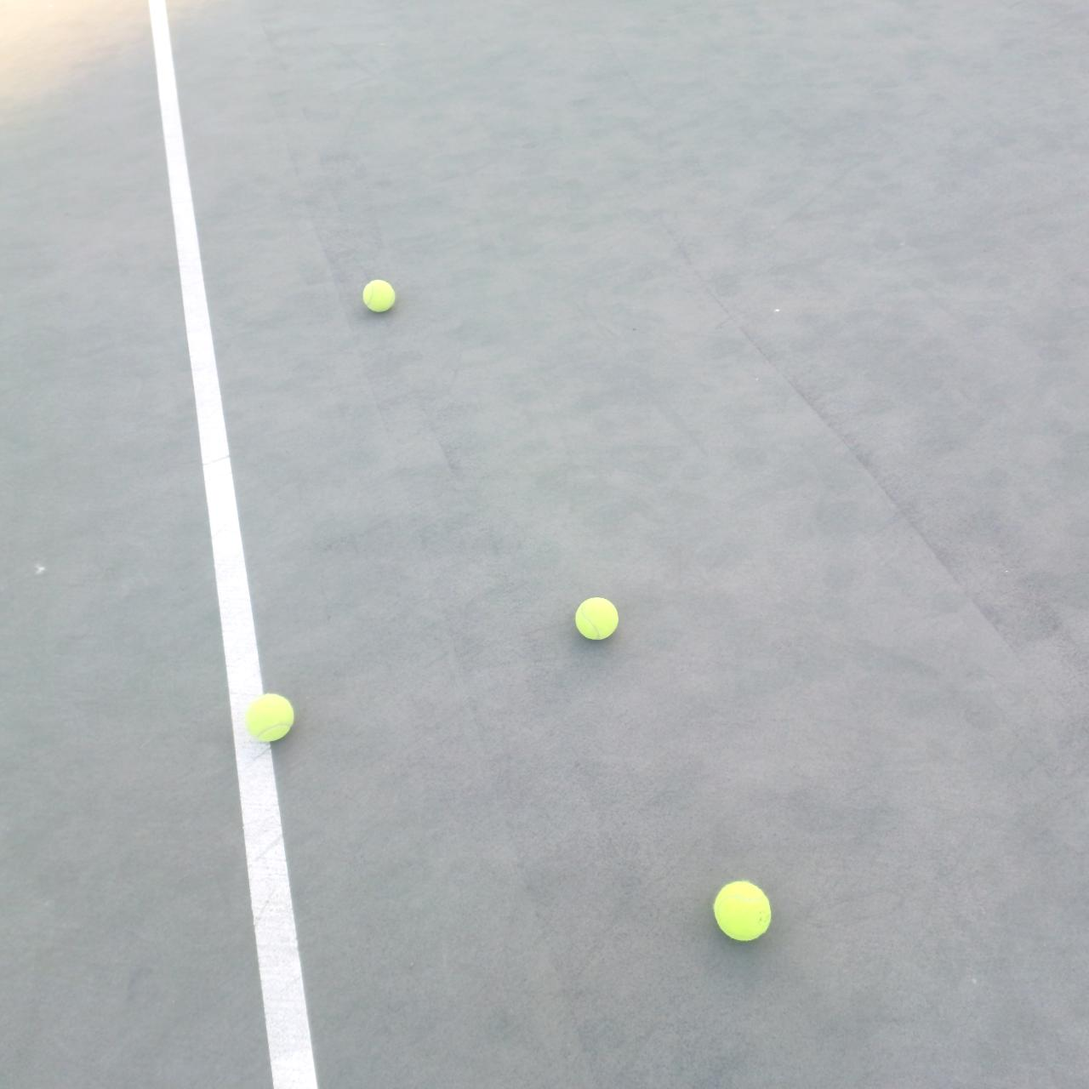tennis-ball: (711, 877, 773, 942), (243, 690, 295, 744), (573, 594, 619, 641), (360, 276, 396, 313)
